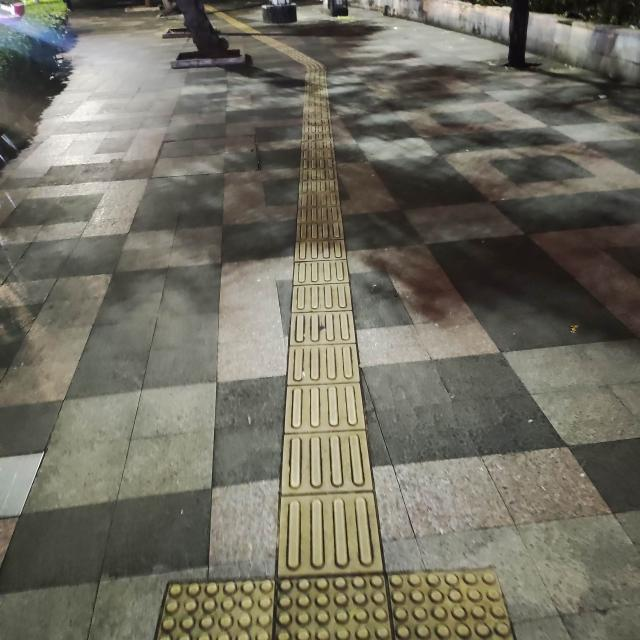lurus: (274, 51, 374, 568)
